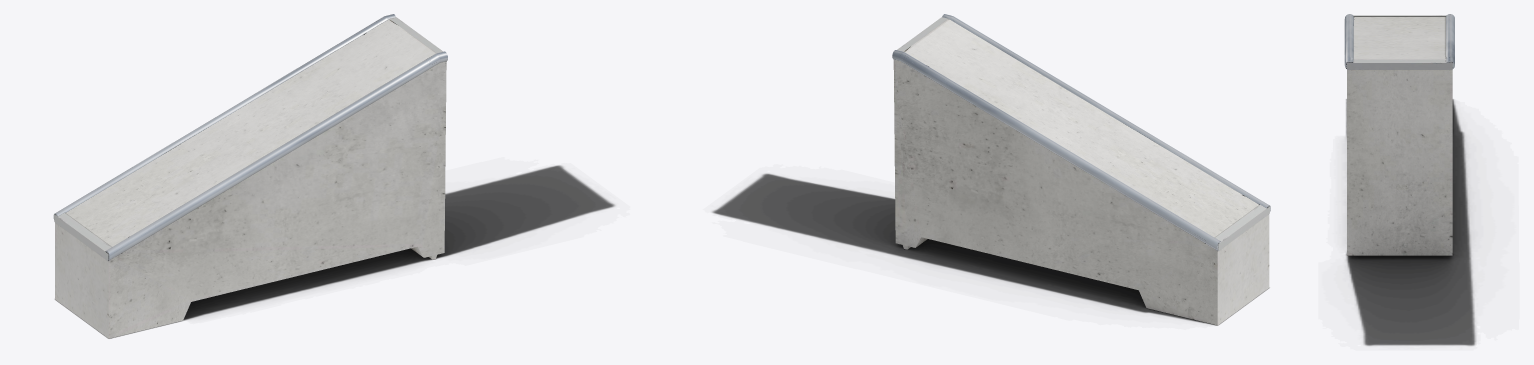
File: ledge-kurz-98-40.gltf
3 renders of one model, left to right at view 1: azimuth 30°, elevation 25°; view 2: azimuth 150°, elevation 25°; view 3: azimuth 270°, elevation 25°, orthographic. The views are drawn at different scales.
Visible parts, largest first — view 1: SK0176_Ledge_kurz-98-40.001, Schatten; view 2: SK0176_Ledge_kurz-98-40.001, Schatten; view 3: SK0176_Ledge_kurz-98-40.001, Schatten.
Part boxes in pixels (x1,y1,x2,y2): SK0176_Ledge_kurz-98-40.001: (53,14,447,338); Schatten: (56,165,614,338); SK0176_Ledge_kurz-98-40.001: (892,14,1270,325); Schatten: (712,173,1268,325); SK0176_Ledge_kurz-98-40.001: (1344,14,1454,255); Schatten: (1346,99,1475,345).
Size of the model in its own units: 2.63 by 0.96 by 0.8766.
Materials: 4 (4 with a texture image).
